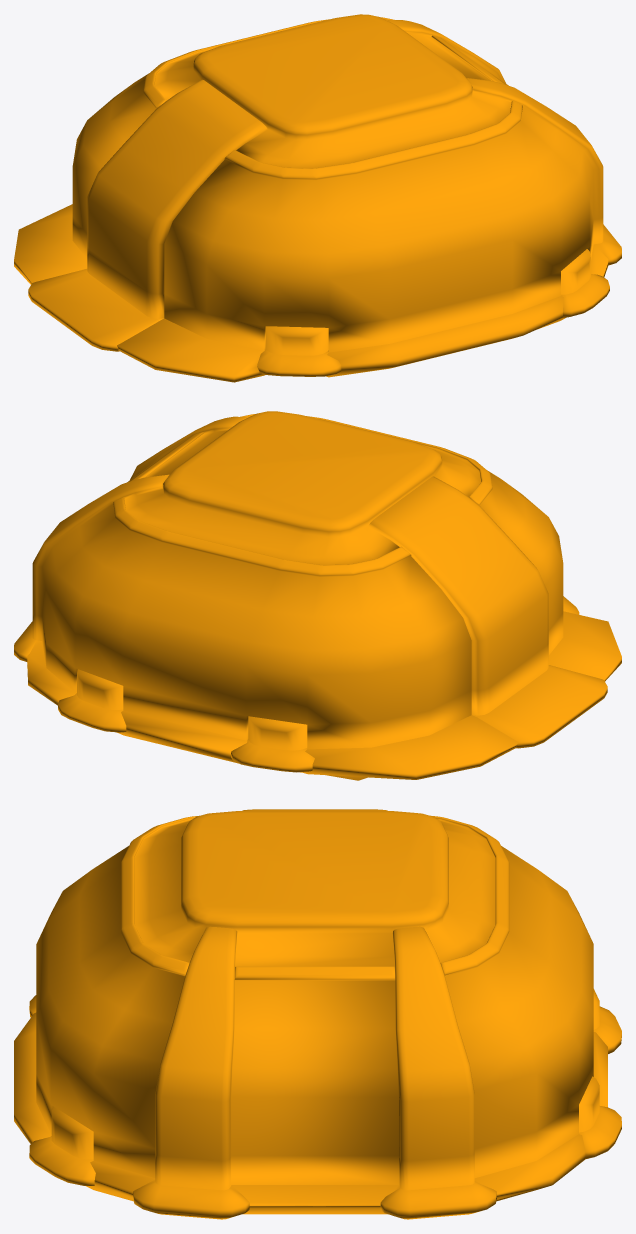
File: Helmet.fbx
3 renders of one model, top to bottom at view 1: azimuth 30°, elevation 25°; view 2: azimuth 150°, elevation 25°; view 3: azimuth 270°, elevation 25°, orthographic. The views are drawn at different scales.
Visible parts, largest first — view 1: Cube; view 2: Cube; view 3: Cube.
Boxes of the visible parts, bbox=[...] form: Cube: bbox=[14, 14, 621, 382]; Cube: bbox=[14, 411, 621, 780]; Cube: bbox=[14, 809, 621, 1219].
Bounding box in the file's own units: 359 × 154 × 319.
